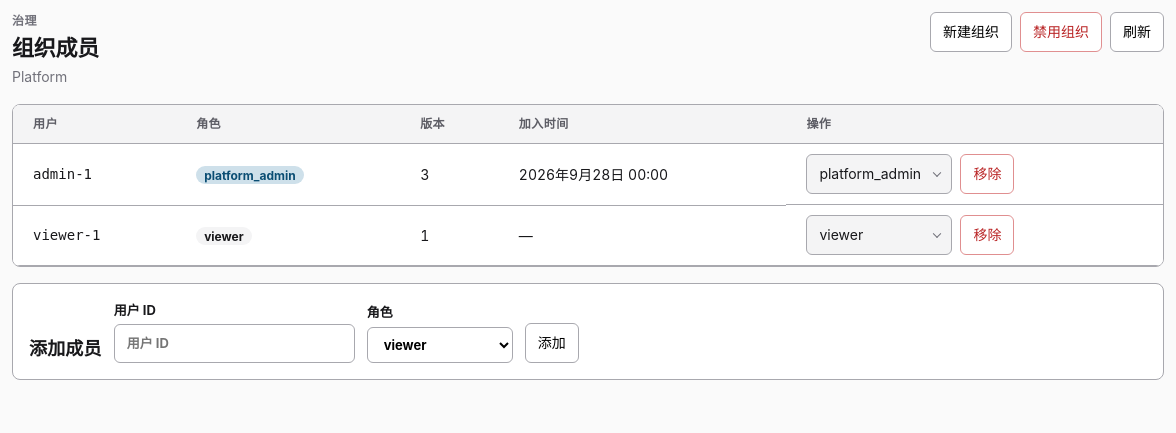
Test: OrganizationPage organization-level actions (TASK-301) › does not offer a second disable for an organization the server reports as disabled
The width and height of the screenshot is (1176, 433).
Click the button with test id "organization-disable-open" at (1061, 32), box x1=1020 y1=12 x2=1102 y2=52
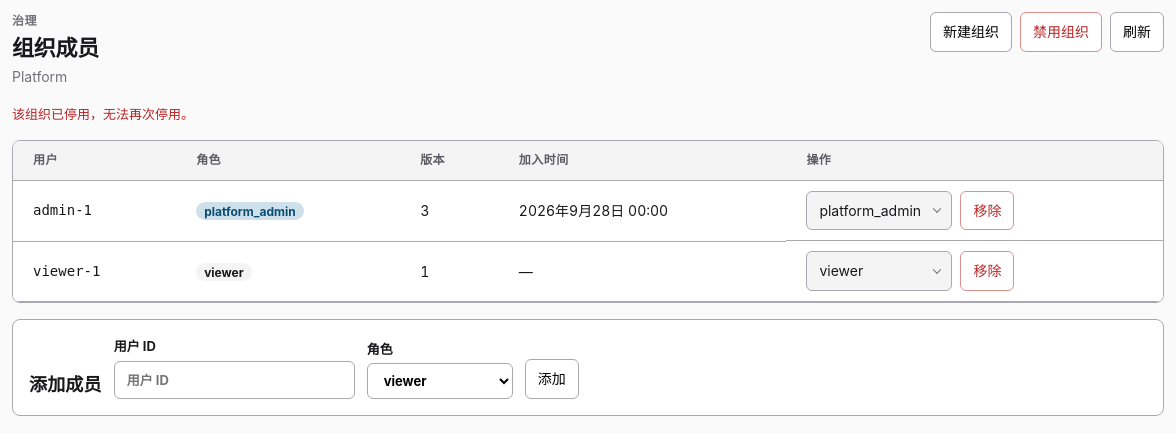
Check: the message with test id "organization-disable-arm-error" reads "该组织已停用，无法再次停用。", box x1=12 y1=106 x2=194 y2=122
